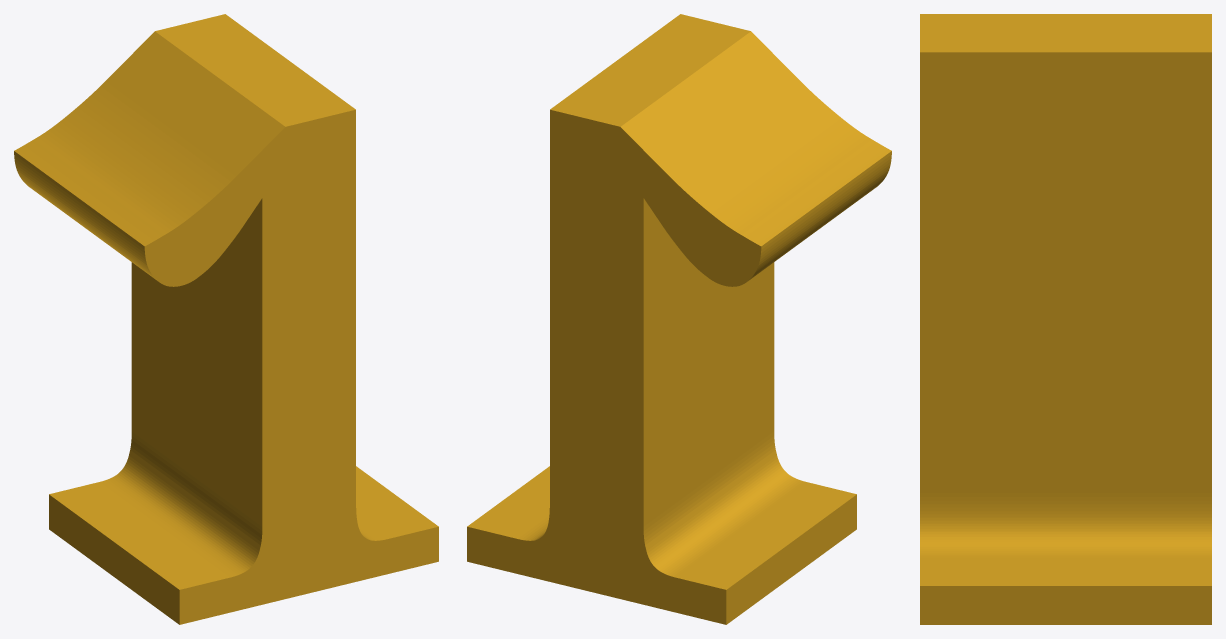
Rendered from tinker.obj.
3 views of the same model, side by side, from view 1: azimuth 30°, elevation 25°; view 2: azimuth 150°, elevation 25°; view 3: azimuth 270°, elevation 25° (orthographic). The views are drawn at different scales.
Parts seen in each view (by area): view 1: obj_0; view 2: obj_0; view 3: obj_0.
Boxes of the visible parts, x1,y1,x2,y2 form: obj_0: [14, 14, 438, 624]; obj_0: [467, 14, 891, 624]; obj_0: [920, 14, 1211, 624].
Bounding box in the file's own units: 13 × 19.94 × 10.
